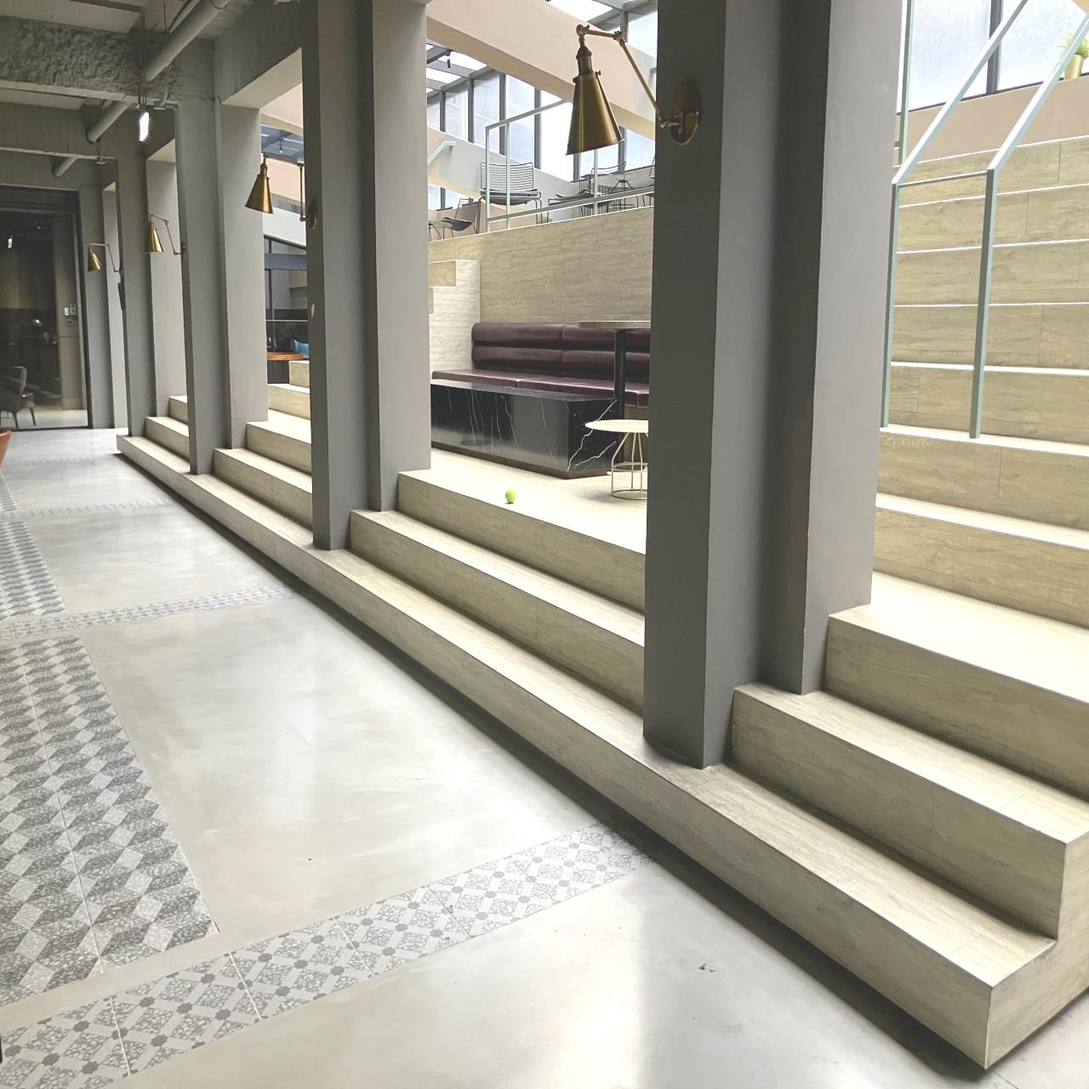tennisball: (505, 488, 517, 503)
